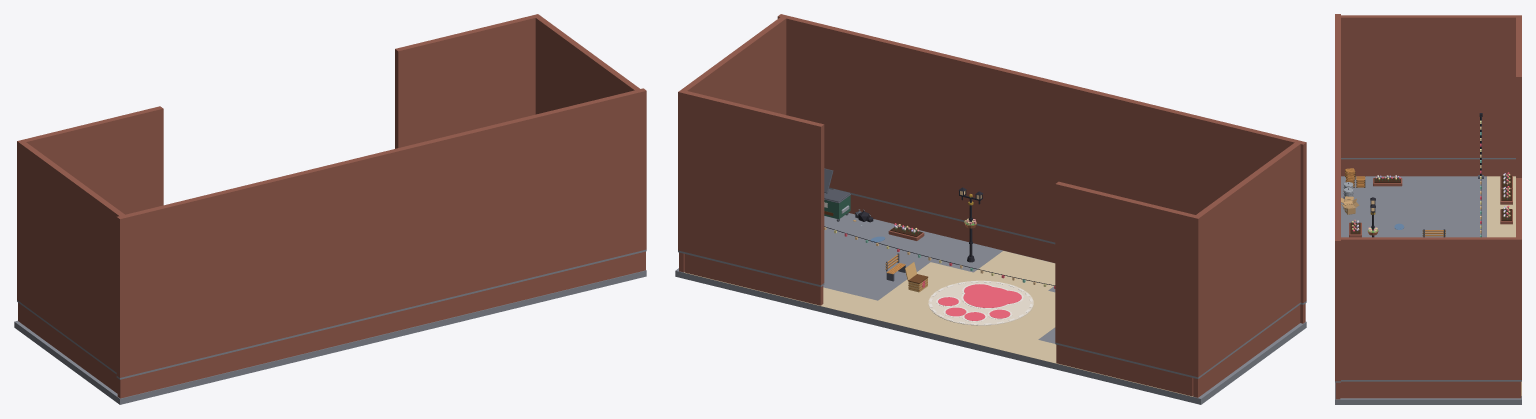
The model's file is CatCafe_Camp_Alleyway.glb.
3 views of the same model, side by side, from view 1: azimuth 30°, elevation 25°; view 2: azimuth 150°, elevation 25°; view 3: azimuth 270°, elevation 25° (orthographic). The views are drawn at different scales.
Parts seen in each view (by area): view 1: CatCafe_Camp_Alleyway_Barrier, CatCafe_Camp_Alleyway; view 2: CatCafe_Camp_Alleyway_Barrier, CatCafe_Camp_Alleyway, CatCafe_Camp_Alleyway_013_Dumpster; view 3: CatCafe_Camp_Alleyway_Barrier, CatCafe_Camp_Alleyway, CatCafe_Camp_Alleyway_026_FlowerBed, CatCafe_Camp_Alleyway_004_FlowerBed, CatCafe_Camp_Alleyway_005_FlowerBed, CatCafe_Camp_Alleyway_009_FlowerBed.
Boxes of the visible parts, x1,y1,x2,y2 form: CatCafe_Camp_Alleyway_Barrier: (17, 14, 646, 377); CatCafe_Camp_Alleyway: (14, 249, 646, 404); CatCafe_Camp_Alleyway_Barrier: (678, 14, 1306, 377); CatCafe_Camp_Alleyway: (675, 187, 1306, 404); CatCafe_Camp_Alleyway_013_Dumpster: (824, 168, 850, 221); CatCafe_Camp_Alleyway_Barrier: (1335, 14, 1521, 381); CatCafe_Camp_Alleyway: (1335, 158, 1521, 404); CatCafe_Camp_Alleyway_026_FlowerBed: (1373, 178, 1402, 186); CatCafe_Camp_Alleyway_004_FlowerBed: (1500, 209, 1512, 224); CatCafe_Camp_Alleyway_005_FlowerBed: (1500, 189, 1512, 204); CatCafe_Camp_Alleyway_009_FlowerBed: (1349, 222, 1361, 237).
Size of the model in its own units: 92 by 31 by 32.
1 material, 1 textured.
